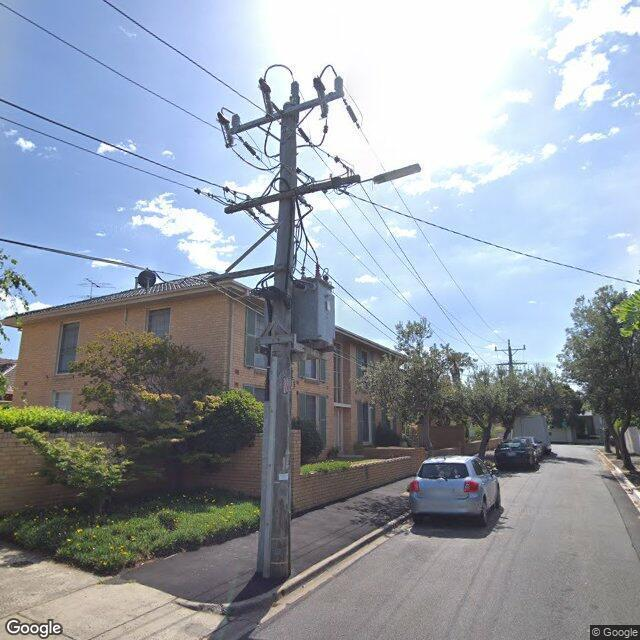HV-transmission: (217, 76, 360, 161), (494, 338, 526, 351)
crossarm: (224, 174, 360, 214), (228, 91, 342, 135), (495, 348, 526, 352), (495, 362, 527, 365)
streetlight: (359, 163, 422, 185)
timber-pole: (256, 102, 297, 579), (508, 345, 513, 369)
transformer: (290, 276, 336, 349)
